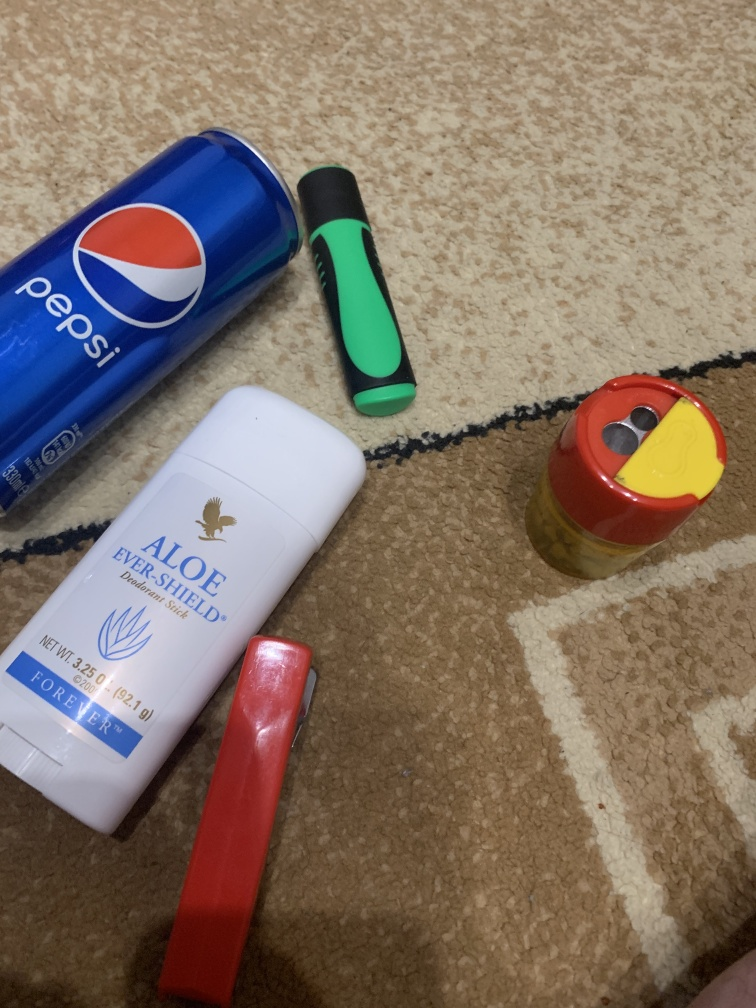pepsi: (2, 126, 304, 528)
